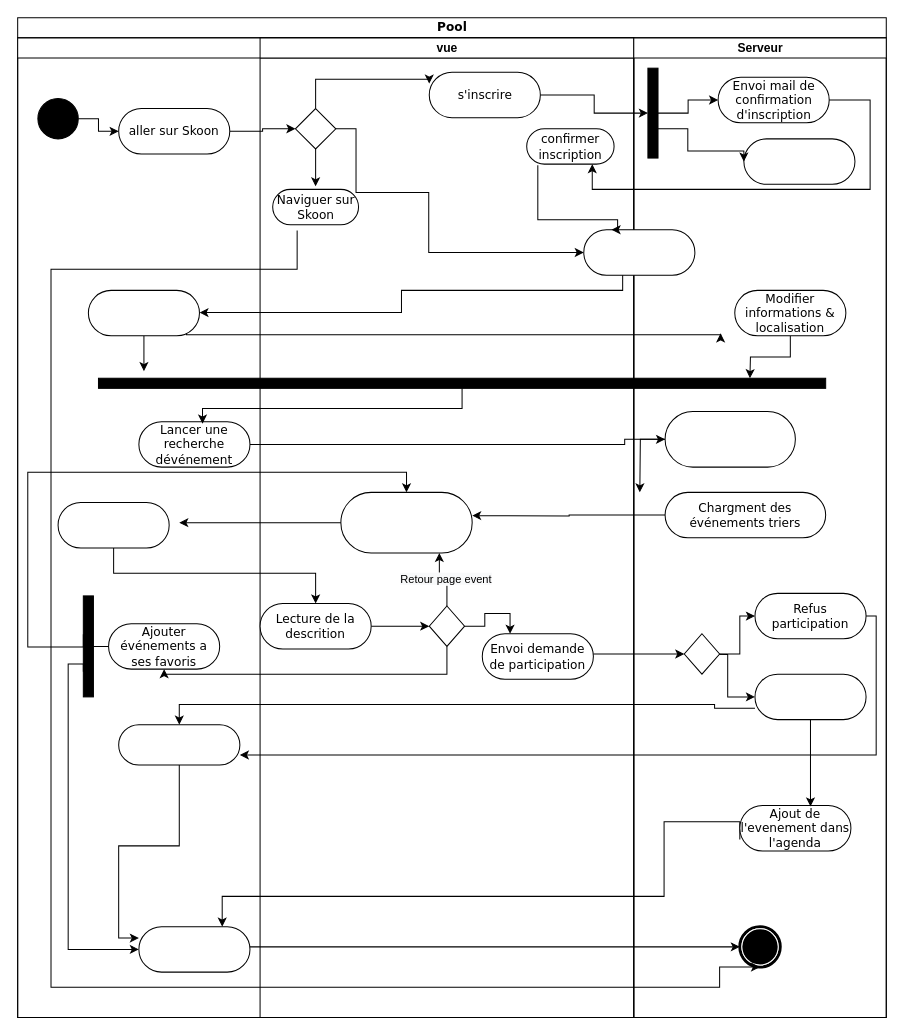
Image size: 904x1035. Some labels were removed from this diagram. The shapes that lost their labels are listed below. From the top down, each one's centre as x and y in pixels, then its label:
pixel 799 161: Parametrer profil
pixel 639 252: se connecter
pixel 143 312: Accès profil
pixel 729 439: Recupère événements trier par localisation client
pixel 113 524: Séléctionner un événement
pixel 406 522: Visualiser les événements, petites icones clickable
pixel 810 696: Confirmation de participation
pixel 179 744: Récéption de mail de confirmation
pixel 194 949: Retour profil
